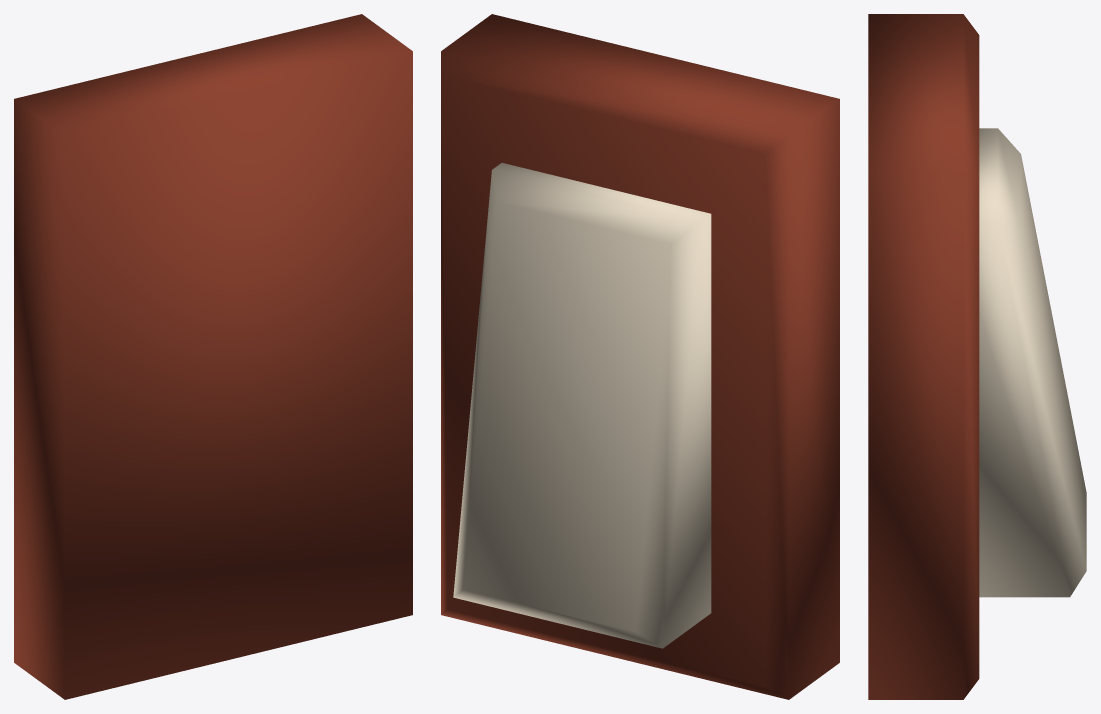
The model's file is props_switch.fbx.
3 views of the same model, side by side, from view 1: azimuth 30°, elevation 25°; view 2: azimuth 150°, elevation 25°; view 3: azimuth 270°, elevation 25° (orthographic). The views are drawn at different scales.
Parts seen in each view (by area): view 1: Cube.004; view 2: Cube.004; view 3: Cube.004.
Part boxes in pixels (box(x1,y1,x2,y2)): Cube.004: box(14, 14, 412, 699); Cube.004: box(441, 14, 839, 699); Cube.004: box(868, 14, 1086, 699).
Size of the model in its own units: 0.0751 by 0.0436 by 0.1163.
